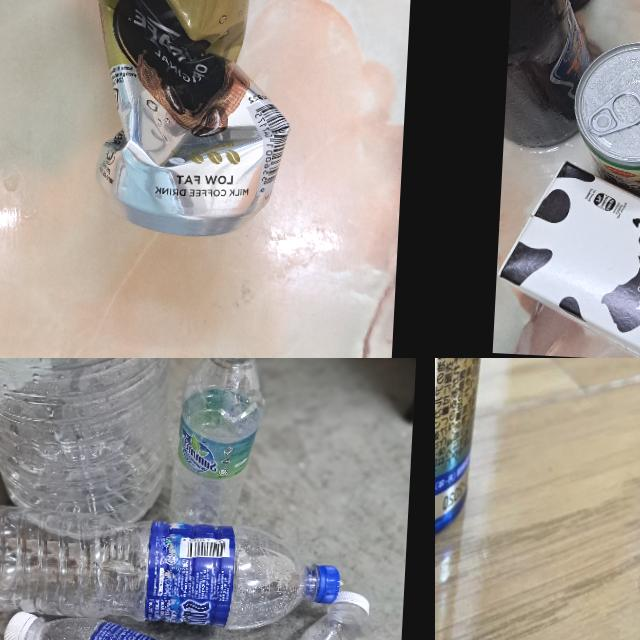aba de lata: (586, 81, 640, 143)
bateria: (435, 358, 506, 554)
caixinha: (492, 157, 640, 358)
garrafa de vidro: (503, 0, 596, 149)
garrafa plástica: (0, 511, 298, 630), (0, 358, 173, 546), (167, 358, 264, 525)
lata: (45, 0, 301, 254), (570, 37, 640, 212)
tampa plástica: (2, 605, 40, 640), (312, 562, 341, 606), (334, 588, 371, 614)
